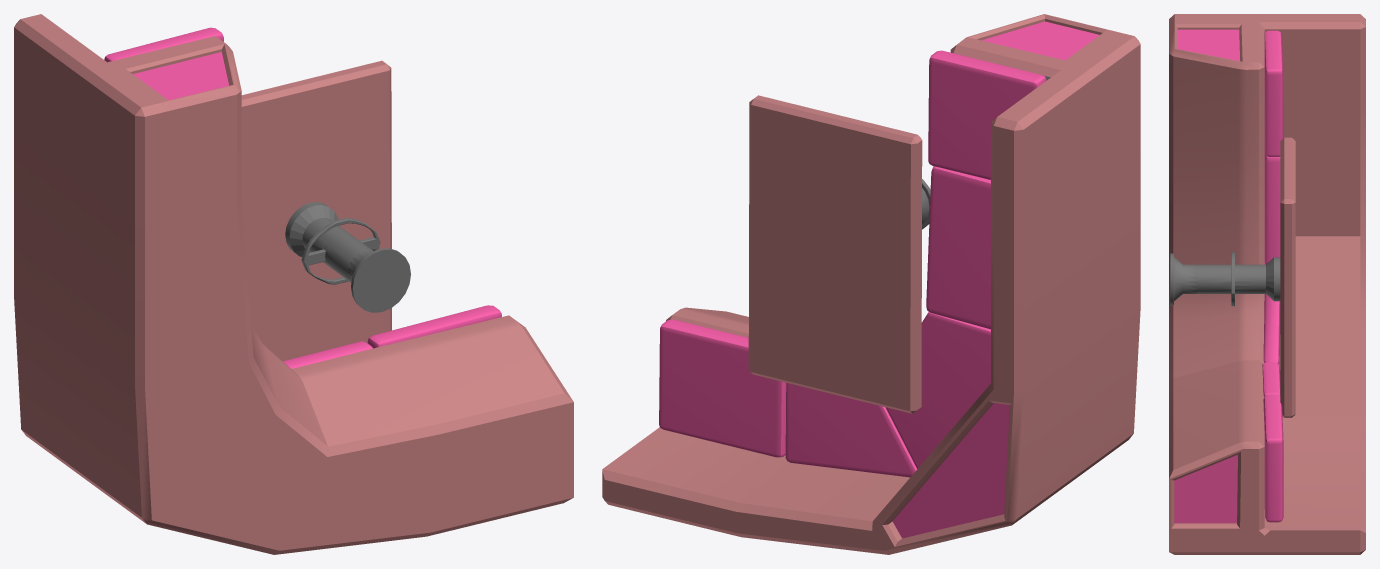
File: CORNER_BOOTH_FINAL_FBX.fbx
3 renders of one model, left to right at view 1: azimuth 30°, elevation 25°; view 2: azimuth 150°, elevation 25°; view 3: azimuth 270°, elevation 25°, orthographic. The views are drawn at different scales.
Visible parts, largest first — view 1: Corner_Booth; view 2: Corner_Booth; view 3: Corner_Booth.
Part boxes in pixels (<box>): Corner_Booth: <box>14,14,573,554</box>; Corner_Booth: <box>602,14,1140,554</box>; Corner_Booth: <box>1169,14,1365,554</box>.
Size of the model in its own units: 12.88 by 14.1 by 6.57.
